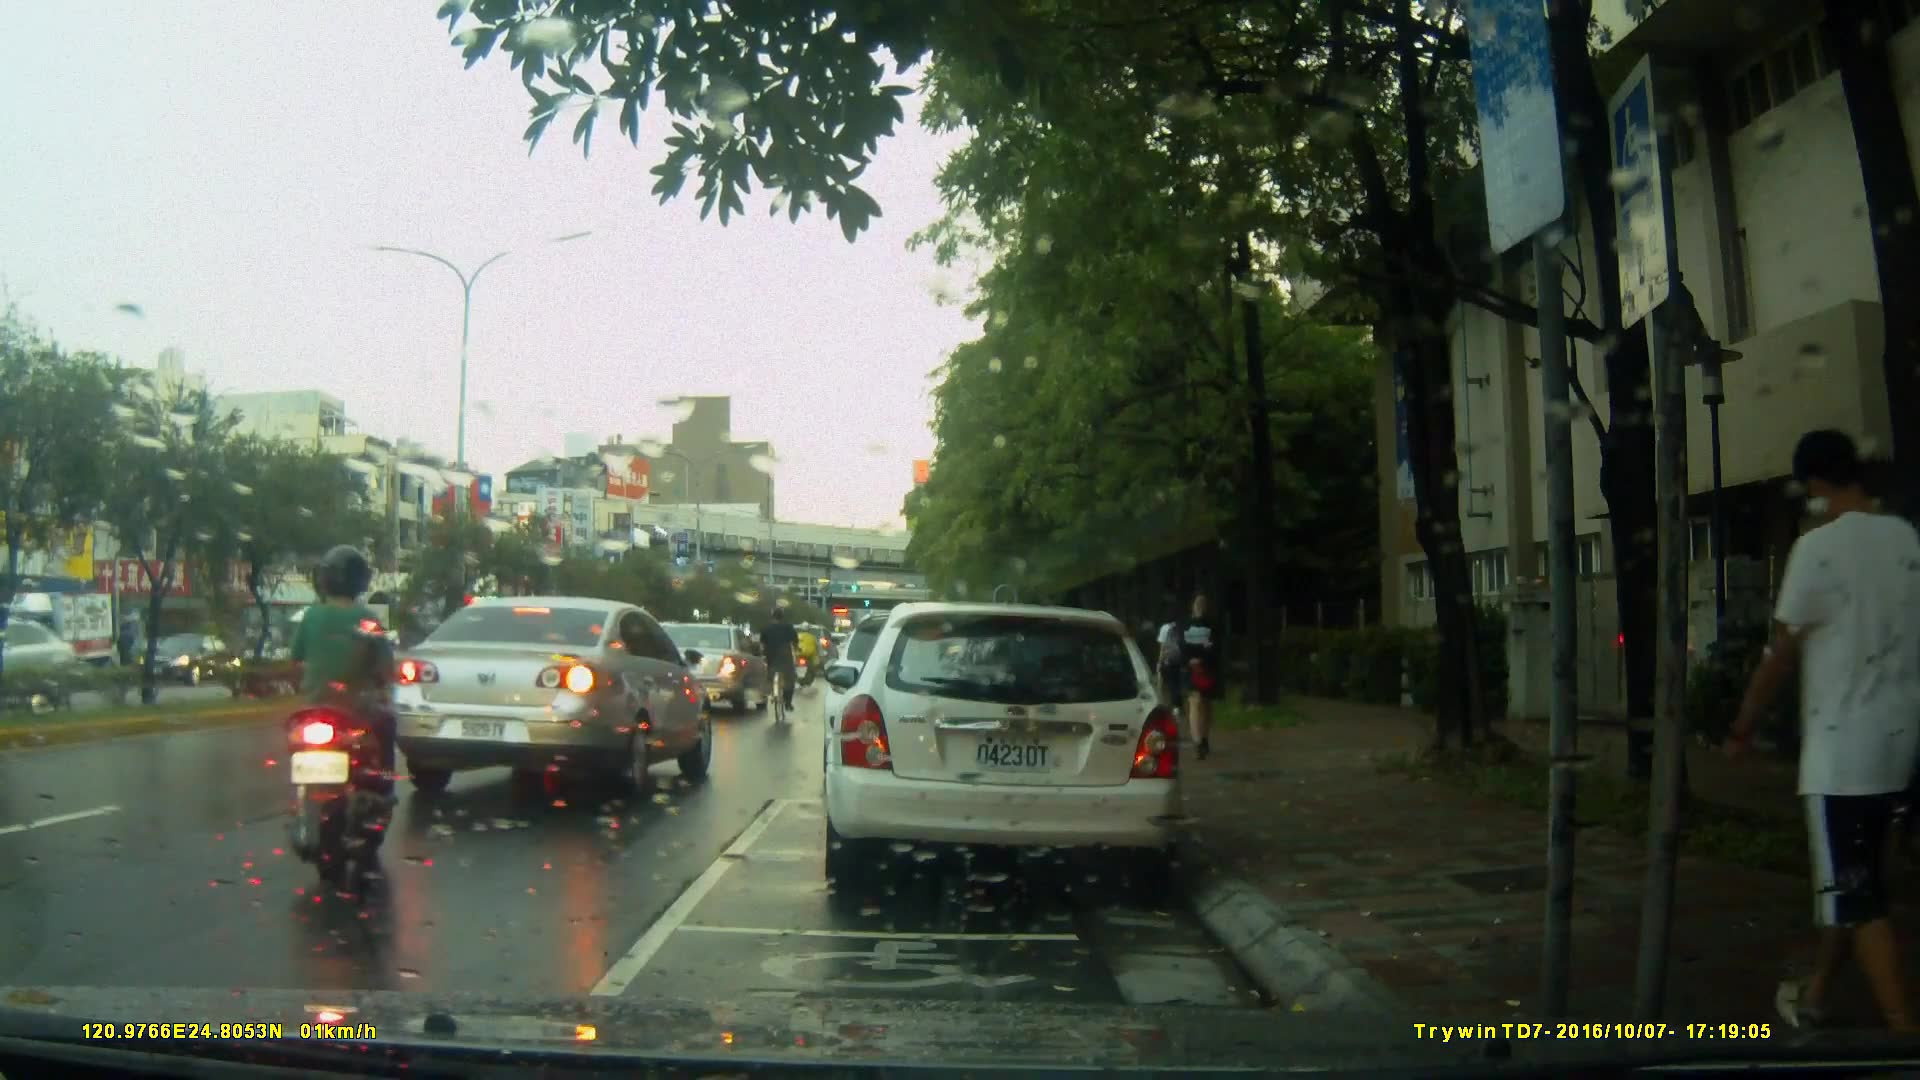pedestrian: (1758, 406, 1905, 1049), (1171, 592, 1229, 758), (1145, 604, 1193, 732)
rider: (273, 543, 386, 914), (758, 607, 799, 737), (795, 615, 825, 693)
vehicle: (820, 602, 1188, 898), (389, 593, 718, 805), (1, 587, 128, 699), (627, 623, 772, 718)
